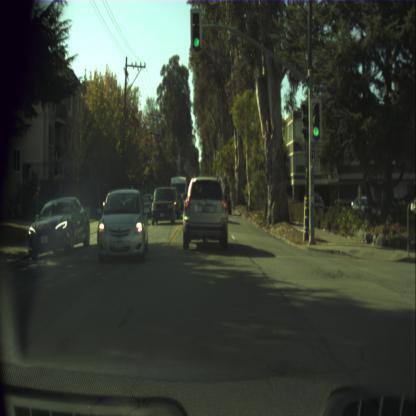Green: (192, 12, 200, 50), (312, 102, 320, 138)
